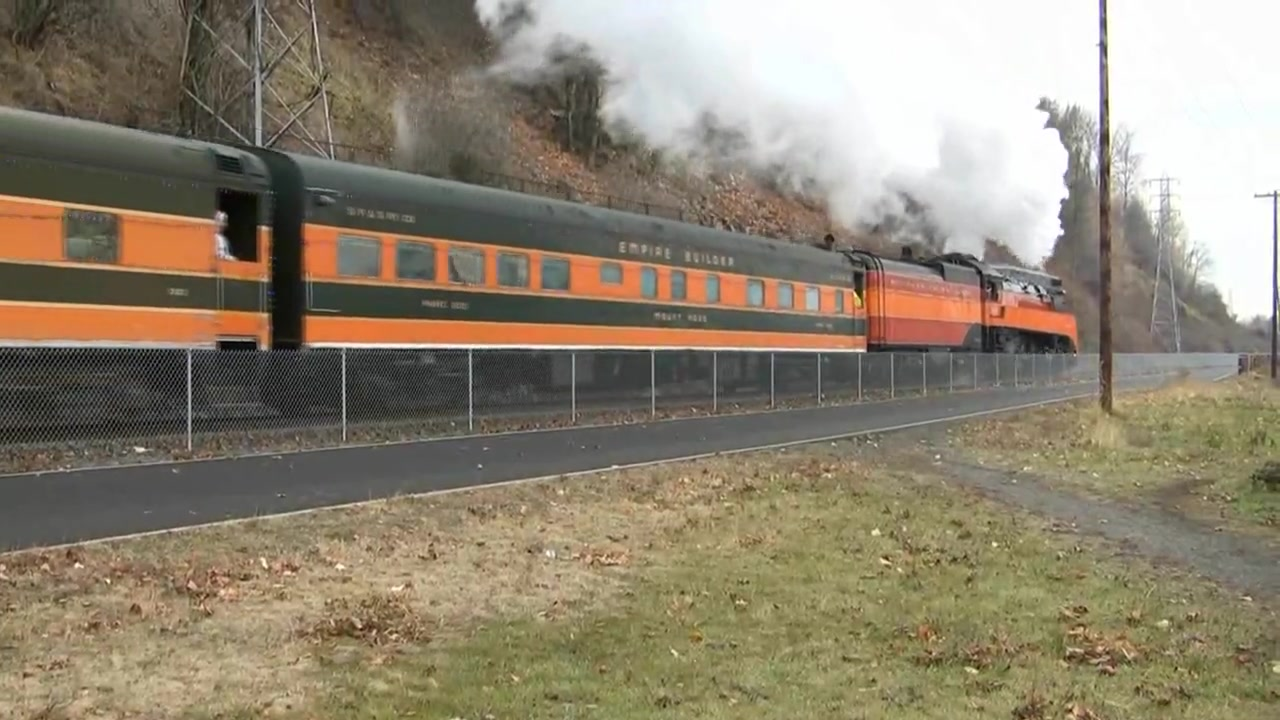train: (1, 95, 1082, 433)
